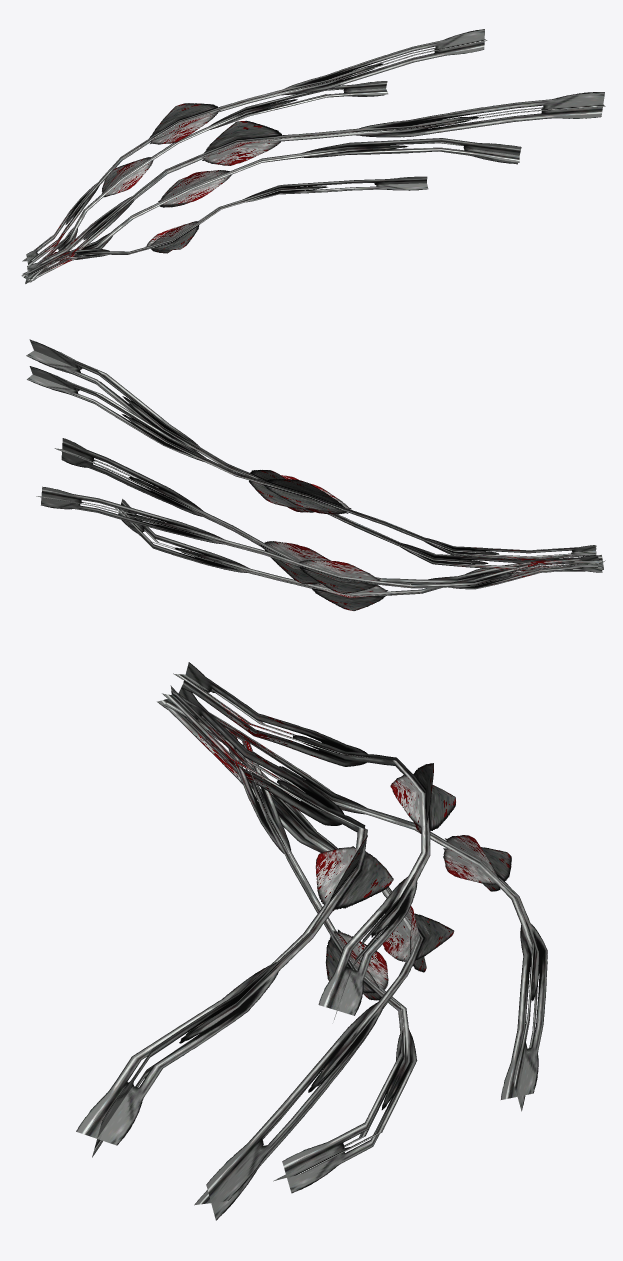
The model's file is cjz_suoliantiao.FBX.
3 renders of one model, top to bottom at view 1: azimuth 30°, elevation 25°; view 2: azimuth 150°, elevation 25°; view 3: azimuth 270°, elevation 25°, orthographic. The views are drawn at different scales.
Parts seen in each view (by area): view 1: cjz_suoliantiao; view 2: cjz_suoliantiao; view 3: cjz_suoliantiao.
Part boxes in pixels (x1=…): cjz_suoliantiao: x1=21, y1=29, x2=605, y2=283; cjz_suoliantiao: x1=26, y1=339, x2=605, y2=610; cjz_suoliantiao: x1=76, y1=662, x2=547, y2=1220.
Size of the model in its own units: 161 by 45.32 by 64.57.
1 material, 1 textured.
